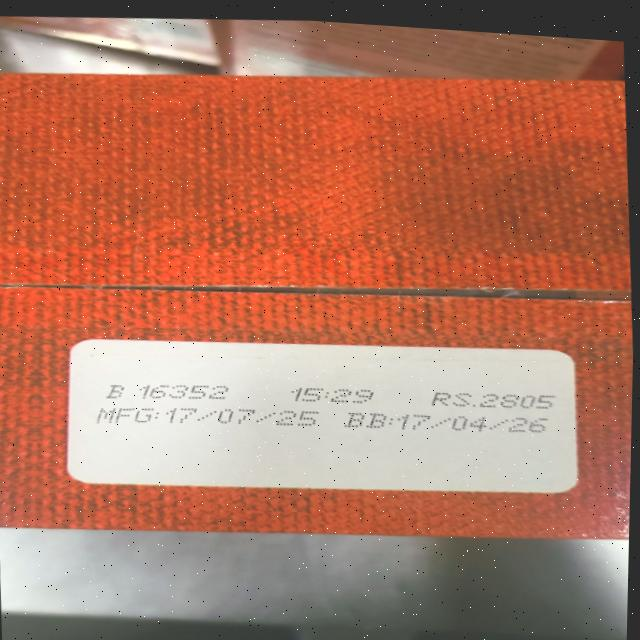BB: (340, 399, 552, 445)
Batch: (103, 373, 231, 410)
MFG: (92, 393, 322, 440)
RS: (431, 383, 558, 417)
TimeStamp: (290, 381, 376, 410)
